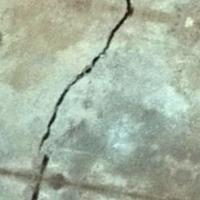crack: (20, 0, 159, 199)
